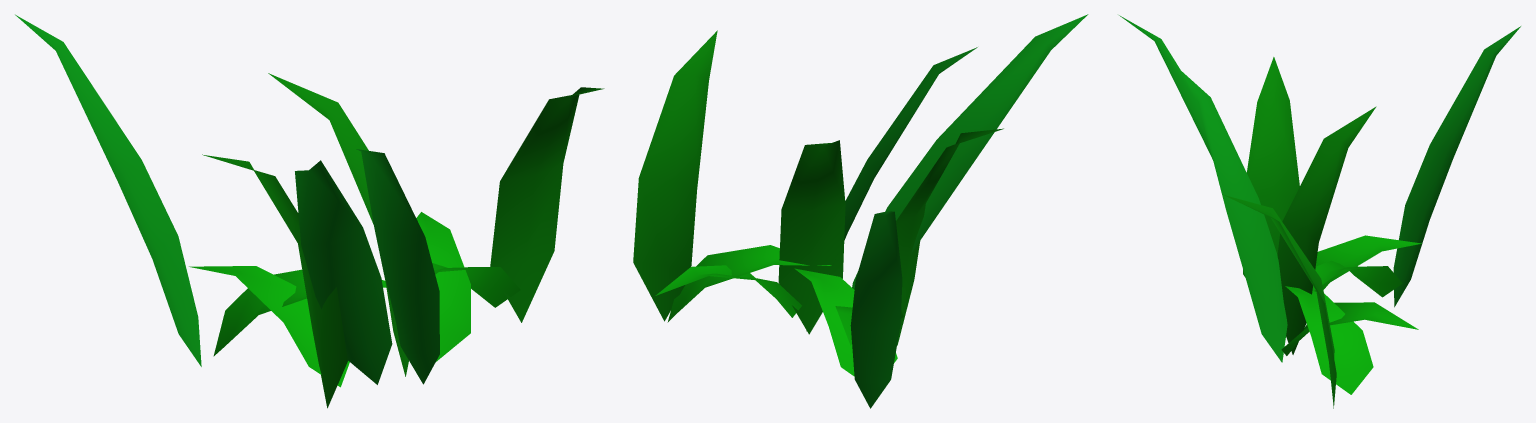
File: GRASS.fbx
3 renders of one model, left to right at view 1: azimuth 30°, elevation 25°; view 2: azimuth 150°, elevation 25°; view 3: azimuth 270°, elevation 25°, orthographic. The views are drawn at different scales.
Parts seen in each view (by area): view 1: W; view 2: W; view 3: W.
Part boxes in pixels (<box>): W: <box>15,14,604,408</box>; W: <box>633,14,1088,408</box>; W: <box>1119,15,1520,408</box>.
Size of the model in its own units: 9.11 by 7.19 by 9.92.
